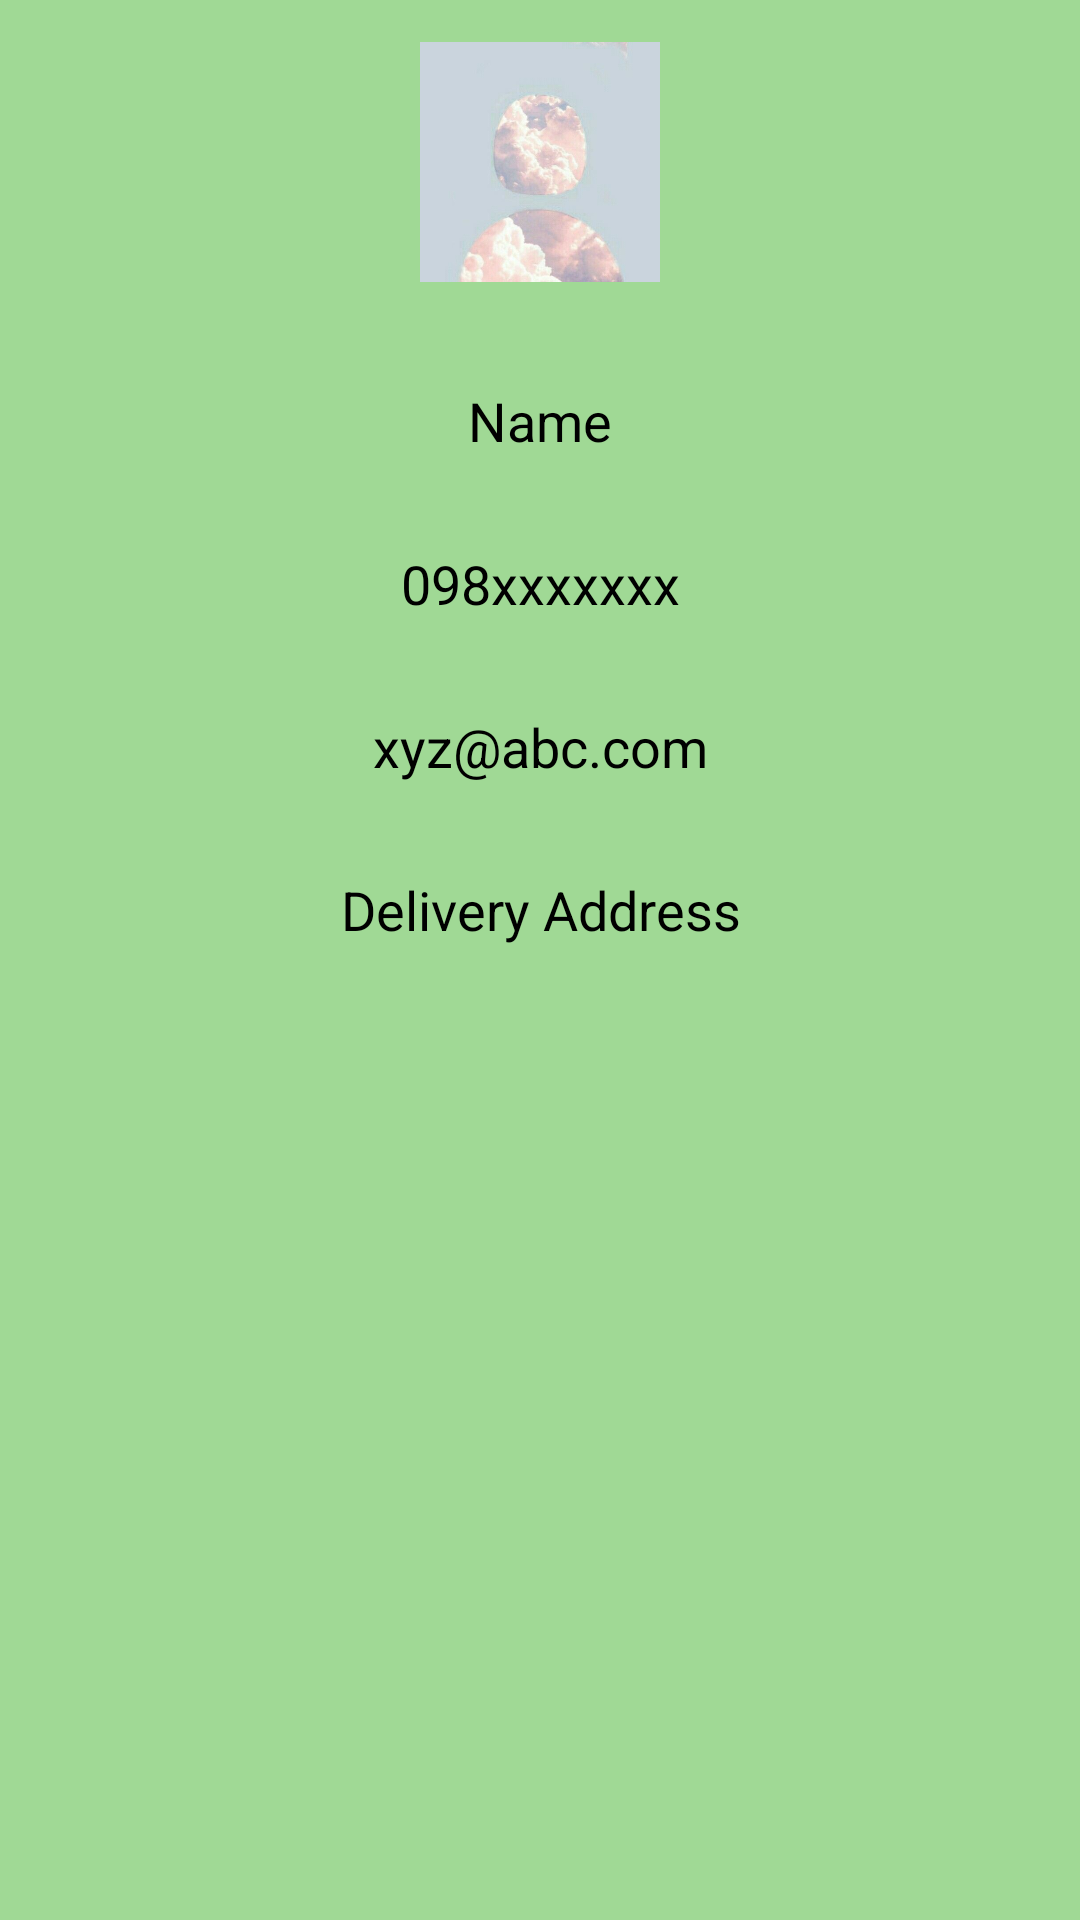

Where icons sit on this 1080w x 1920h app screen, as BBox(x1, y1, x2, y2):
profile pic: BBox(420, 42, 660, 282)
